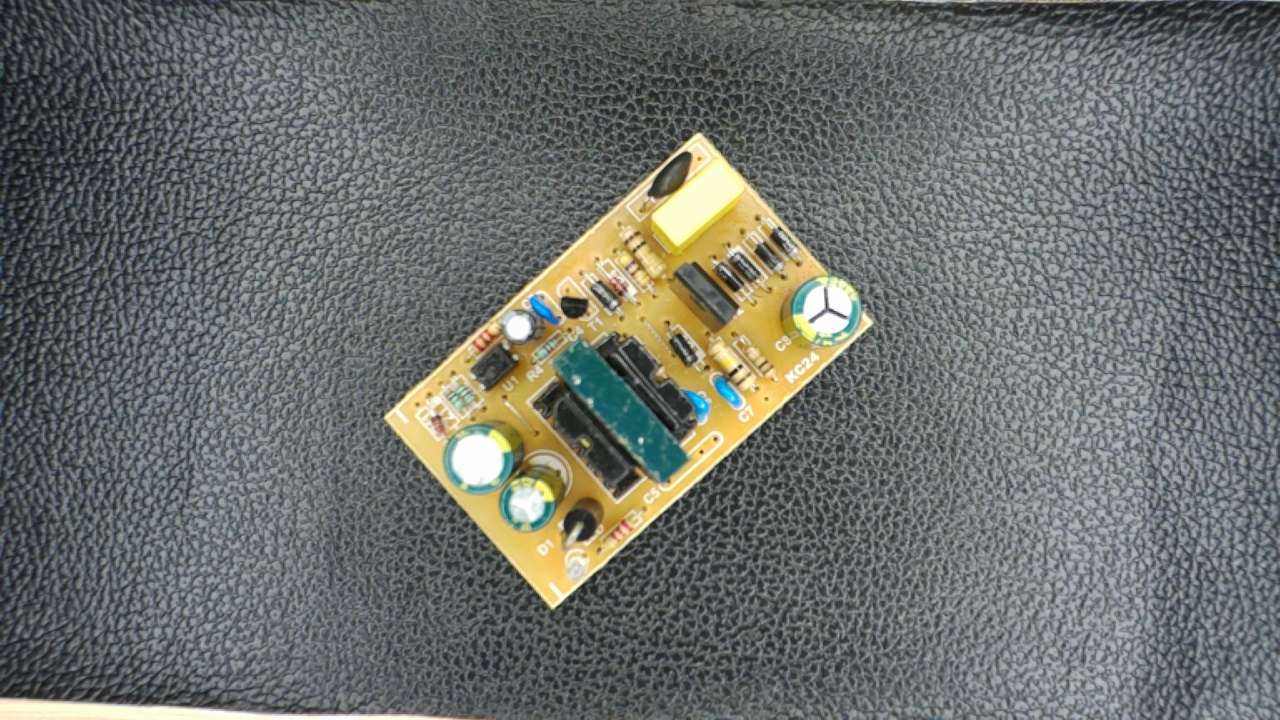fuse: (639, 146, 695, 213)
hv_capacitor: (780, 273, 864, 353)
optocoupler: (462, 338, 530, 390)
